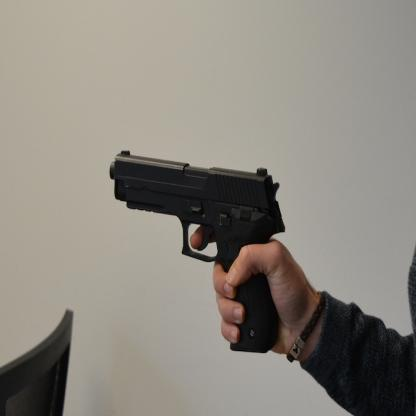gun: (108, 148, 286, 354)
